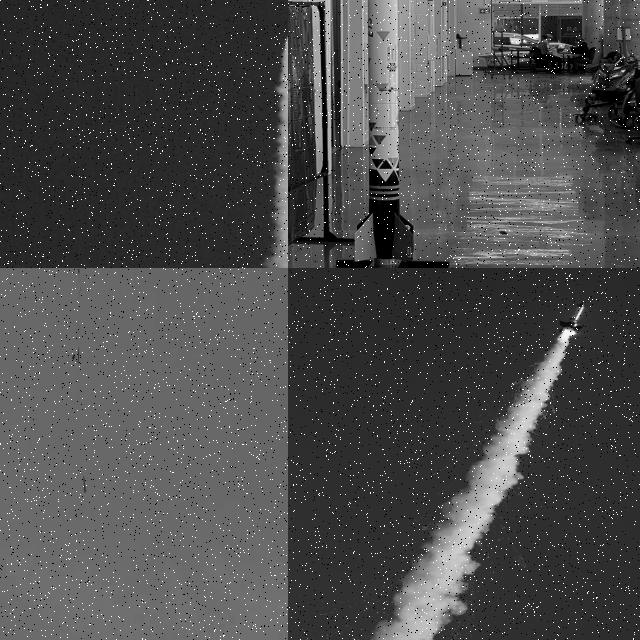Rocket: (354, 0, 414, 262), (558, 302, 586, 334), (83, 476, 87, 494), (283, 24, 288, 36)
